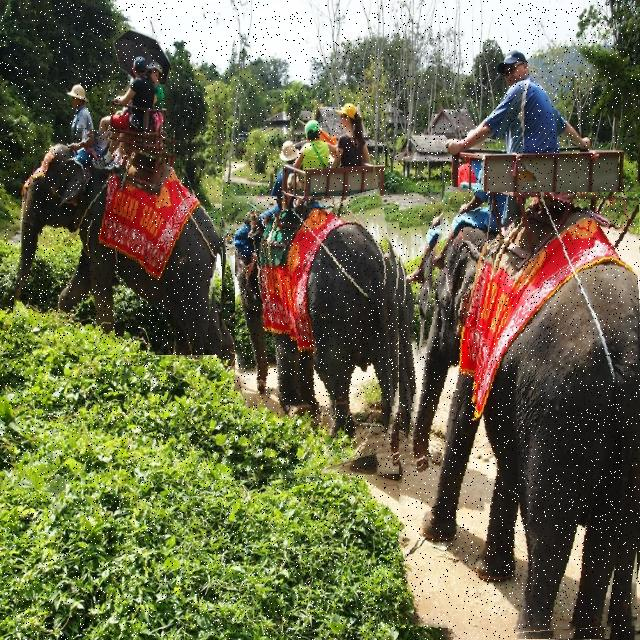elephant: (399, 192, 640, 640), (235, 196, 429, 481), (16, 127, 222, 356)
